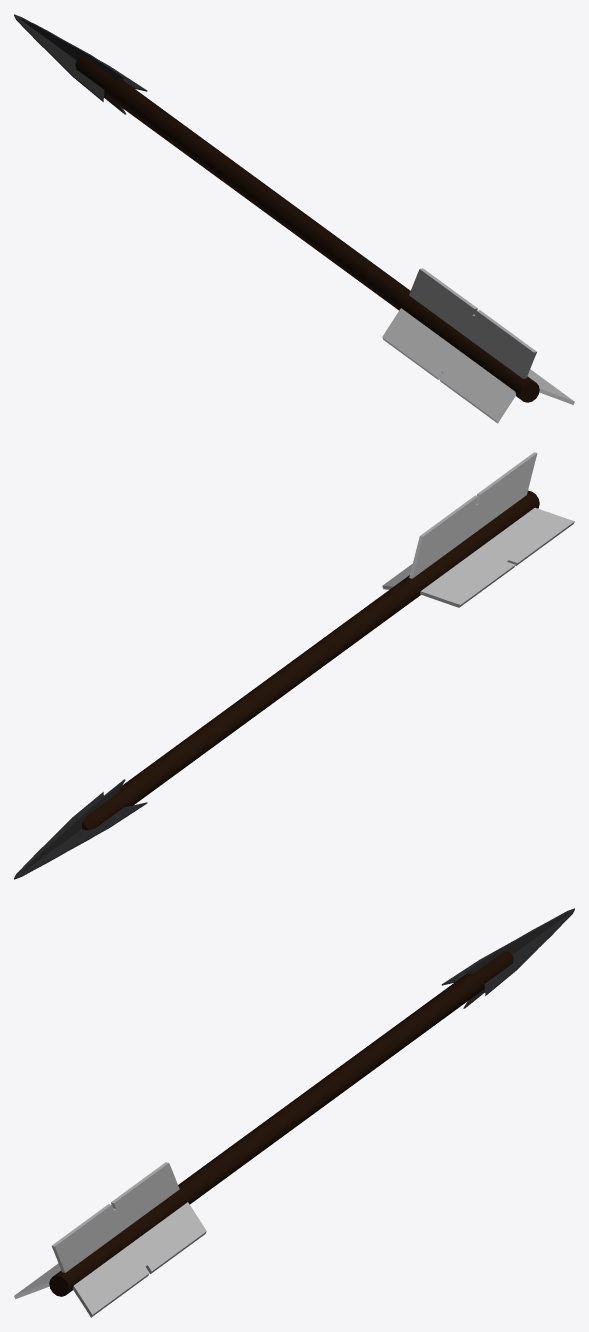
Rendered from Arrow.FBX.
The picture shows the model from 3 angles, top to bottom: view 1: azimuth 30°, elevation 25°; view 2: azimuth 150°, elevation 25°; view 3: azimuth 330°, elevation 25°; orthographic projection.
Visible parts, largest first — view 1: Arrow; view 2: Arrow; view 3: Arrow.
Boxes of the visible parts, x1,y1,x2,y2 form: Arrow: [14, 14, 574, 423]; Arrow: [14, 452, 574, 879]; Arrow: [14, 908, 574, 1317].
Size of the model in its own units: 23.76 by 18.13 by 274.
